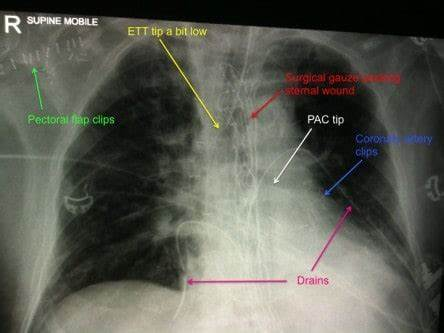telestration: (158, 38, 218, 125), (311, 204, 351, 270), (285, 73, 403, 95), (273, 127, 312, 184), (352, 133, 434, 158), (323, 158, 364, 197), (185, 274, 289, 285), (27, 113, 114, 125), (124, 26, 210, 38), (251, 87, 284, 117), (29, 66, 46, 111), (306, 111, 344, 126), (297, 273, 329, 287)
